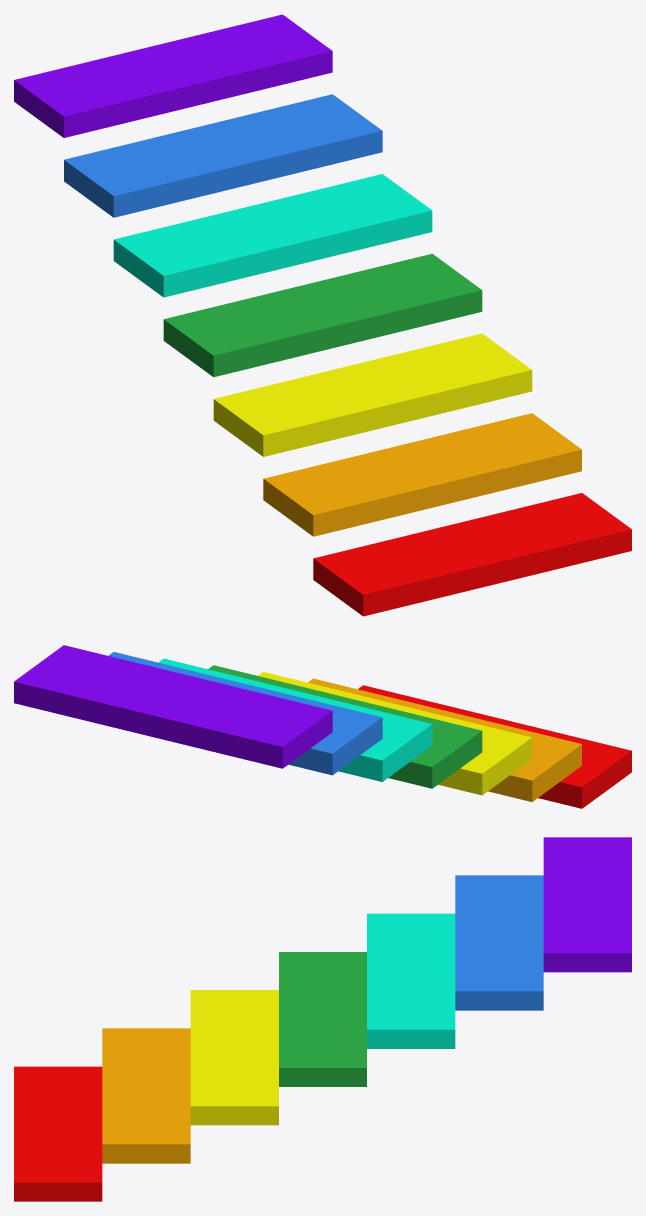
File: Lader4.fbx
3 views of the same model, one above another, from view 1: azimuth 30°, elevation 25°; view 2: azimuth 150°, elevation 25°; view 3: azimuth 270°, elevation 25° (orthographic). The views are drawn at different scales.
Visible parts, largest first — view 1: Lader4; view 2: Lader4; view 3: Lader4.
Boxes of the visible parts, x1,y1,x2,y2 form: Lader4: (14, 14, 631, 616); Lader4: (14, 645, 631, 808); Lader4: (14, 837, 631, 1201).
Size of the model in its own units: 6.22 by 6.21 by 14.
